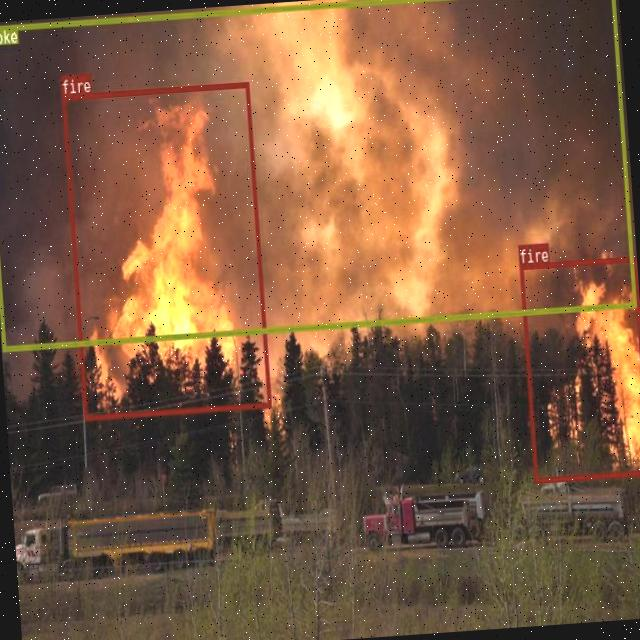fire: (61, 81, 270, 419), (518, 254, 640, 481)
smoke: (0, 0, 635, 350)
